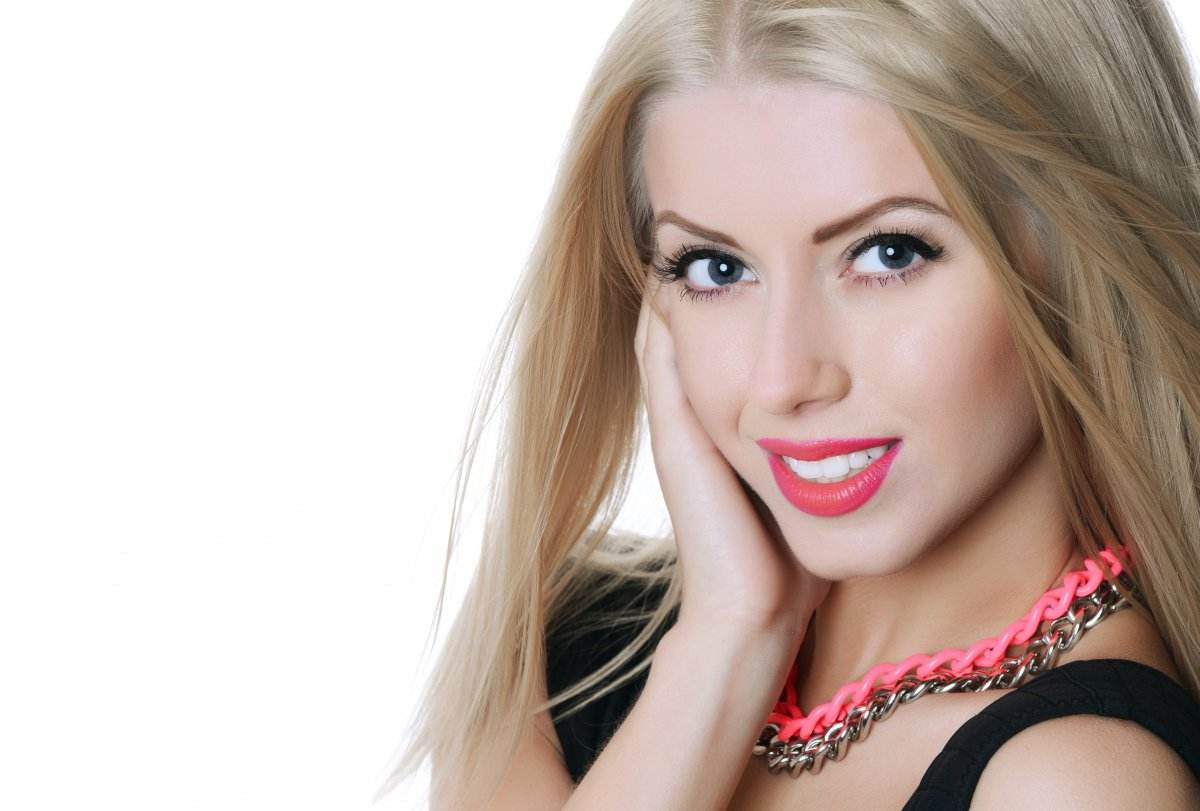person: (388, 1, 1172, 715)
